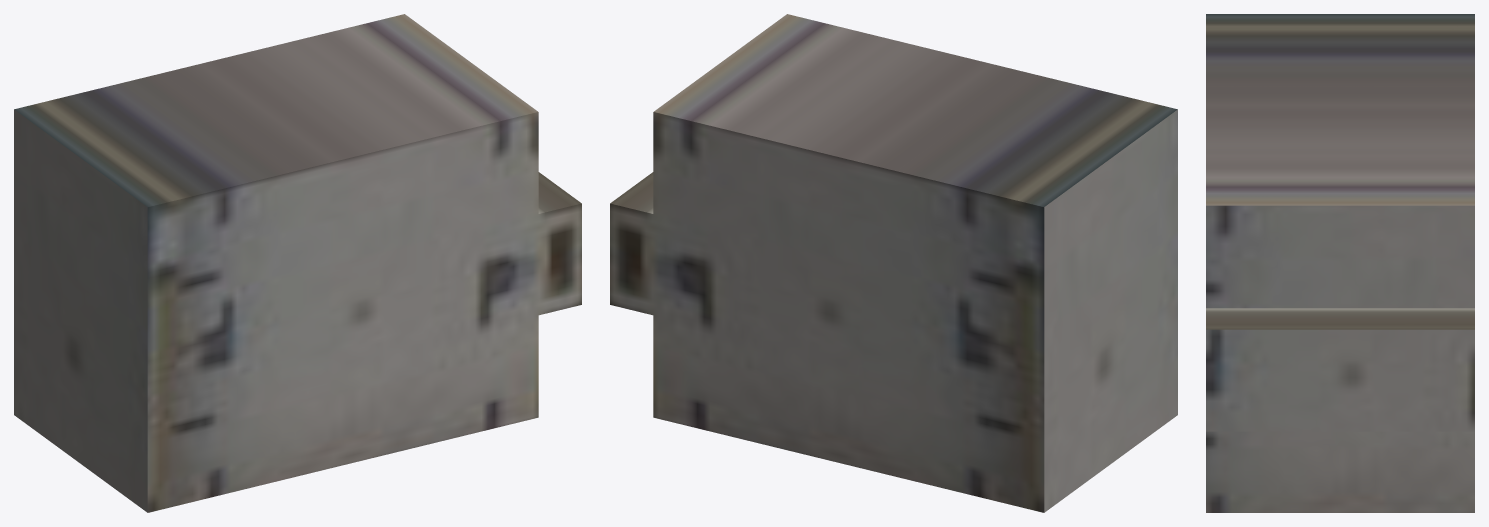
File: s4_truss_23_battery_bottom_left.dae
3 views of the same model, side by side, from view 1: azimuth 30°, elevation 25°; view 2: azimuth 150°, elevation 25°; view 3: azimuth 270°, elevation 25° (orthographic).
Visible parts, largest first — view 1: 23 S4 Truss; view 2: 23 S4 Truss; view 3: 23 S4 Truss.
Boxes of the visible parts, box(x1,y1,x2,y2) form: 23 S4 Truss: box(14, 14, 581, 512); 23 S4 Truss: box(610, 14, 1177, 512); 23 S4 Truss: box(1206, 14, 1474, 512).
Size of the model in its own units: 1.05 by 0.5605 by 0.7068.
1 material, 1 textured.
